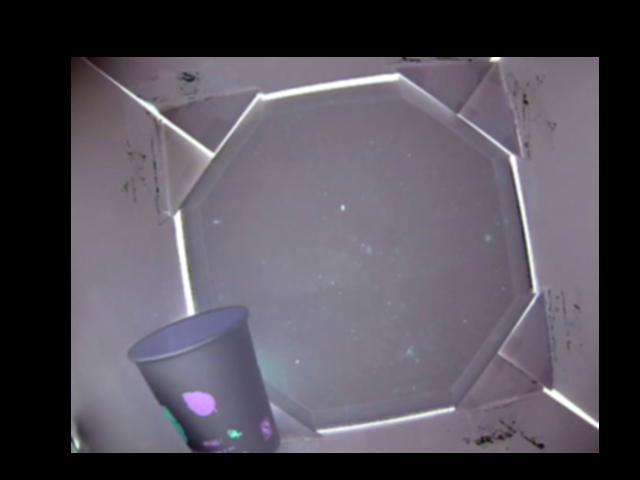Cup: (126, 306, 279, 453)
